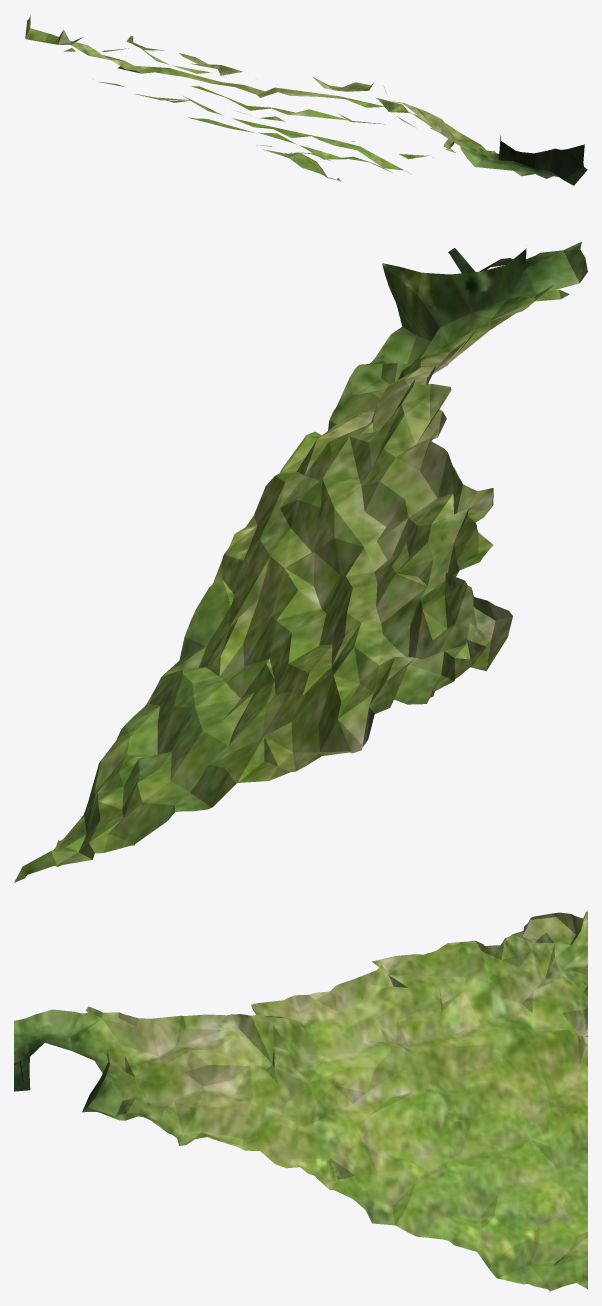
3 renders of one model, top to bottom at view 1: azimuth 30°, elevation 25°; view 2: azimuth 150°, elevation 25°; view 3: azimuth 270°, elevation 25°, orthographic. The views are drawn at different scales.
Bounding box in the file's own units: 16.15 × 11.56 × 26.11.
Materials: 1 (1 with a texture image).
